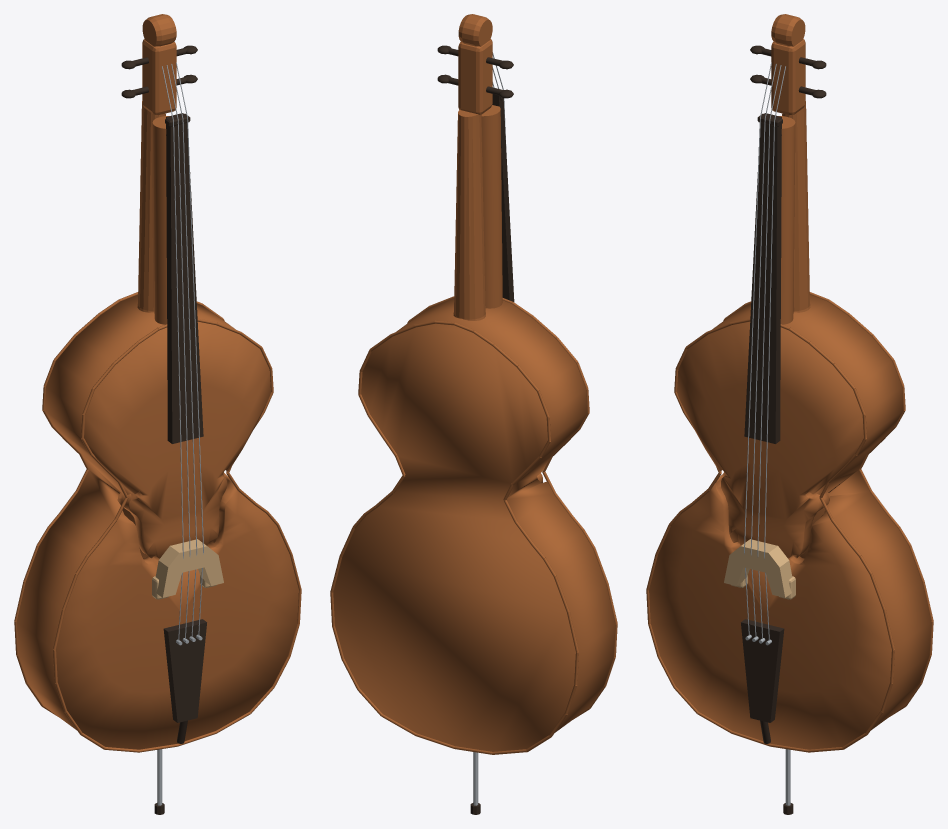
Rendered from A-NEW-20261026-CELLO-001_LOD2_R7.glb.
3 views of the same model, side by side, from view 1: azimuth 30°, elevation 25°; view 2: azimuth 150°, elevation 25°; view 3: azimuth 330°, elevation 25° (orthographic).
Parts seen in each view (by area): view 1: deep hollow cello body, unfretted fingerboard, tapered tailpiece, neck, neck forward support, carved bridge, pegbox, string 1, string 4, string 2, curled scroll, string 3; view 2: deep hollow cello body, neck, neck forward support, pegbox, unfretted fingerboard, curled scroll; view 3: deep hollow cello body, unfretted fingerboard, tapered tailpiece, neck, neck forward support, carved bridge, pegbox, string 4, string 1, string 3, curled scroll, string 2.
Part boxes in pixels (x1,y1,x2,y2): deep hollow cello body: (16, 294, 298, 749); unfretted fingerboard: (166, 113, 203, 443); tapered tailpiece: (163, 619, 206, 722); neck: (137, 101, 165, 312); neck forward support: (152, 116, 169, 324); carved bridge: (155, 539, 223, 597); pegbox: (142, 39, 176, 115); string 1: (162, 66, 183, 640); string 4: (176, 62, 203, 635); string 2: (166, 65, 190, 638); curled scroll: (142, 14, 176, 46); string 3: (171, 64, 197, 637); deep hollow cello body: (333, 298, 615, 751); neck: (453, 110, 485, 320); neck forward support: (481, 105, 502, 308); pegbox: (458, 39, 492, 114); unfretted fingerboard: (492, 94, 514, 301); curled scroll: (458, 14, 492, 46); deep hollow cello body: (649, 294, 931, 749); unfretted fingerboard: (744, 113, 781, 443); tapered tailpiece: (741, 619, 784, 722); neck: (782, 101, 810, 312); neck forward support: (778, 116, 795, 324); carved bridge: (724, 539, 792, 597); pegbox: (771, 39, 805, 115); string 4: (764, 66, 785, 640); string 1: (744, 62, 771, 635); string 3: (757, 65, 781, 638); curled scroll: (771, 14, 805, 46); string 2: (750, 64, 776, 637).
Size of the model in its own units: 0.445 by 1.36 by 0.1733.
